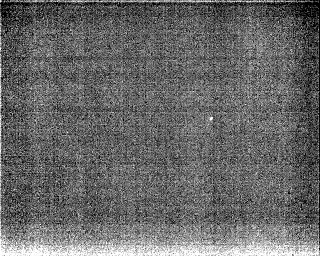BIRD: (207, 114, 215, 124)
